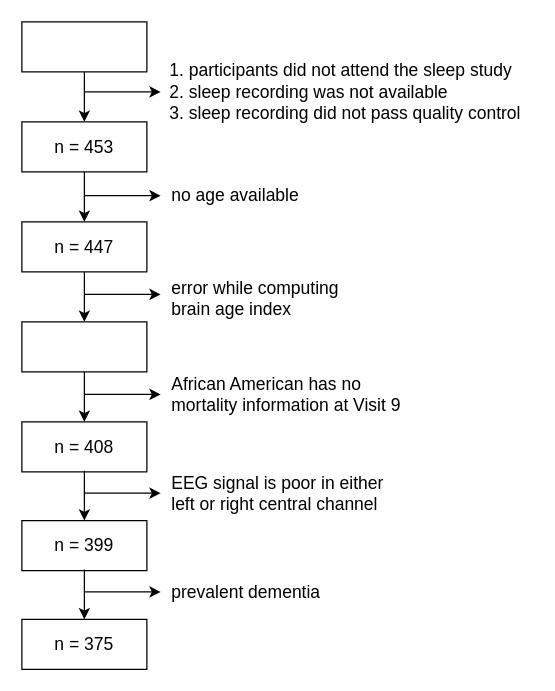
Image size: 555x691. Some labels were removed from this diagram. The box of each missing label's shape, as (x1, y1, x2, y2) in pixels:
n = 441: (21, 321, 147, 372)
n = 4727 at Visit 8: (21, 21, 147, 72)
